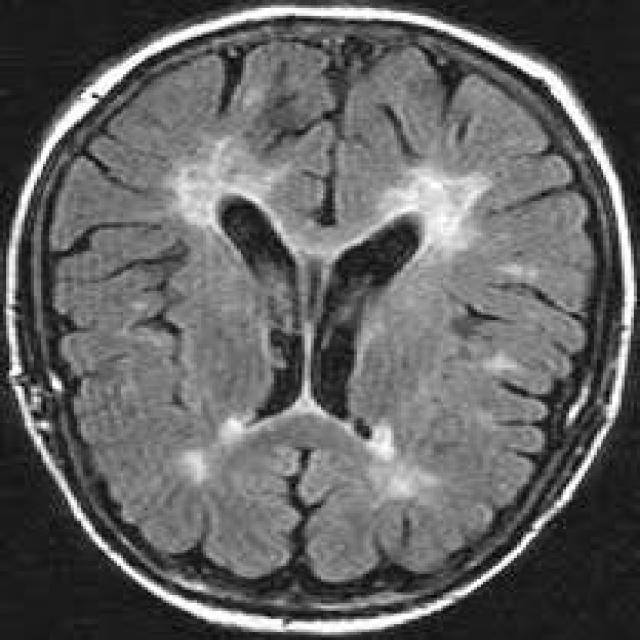no-tumor: (135, 86, 519, 545)
